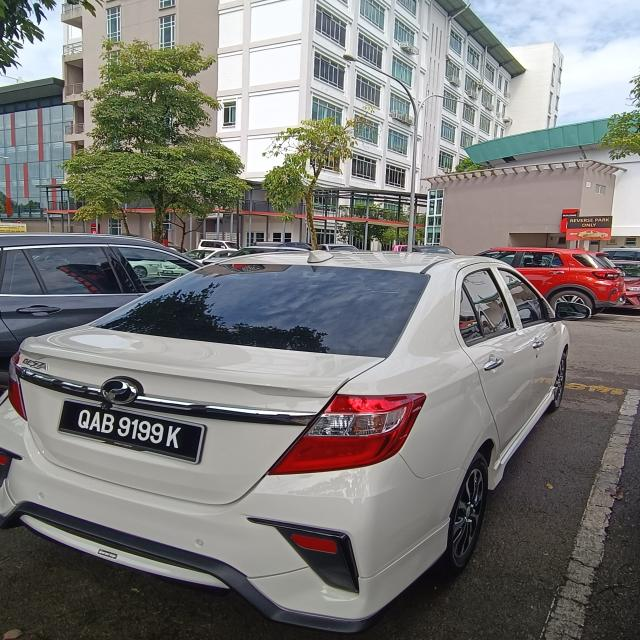PeroduaBezza: (1, 247, 571, 634)
